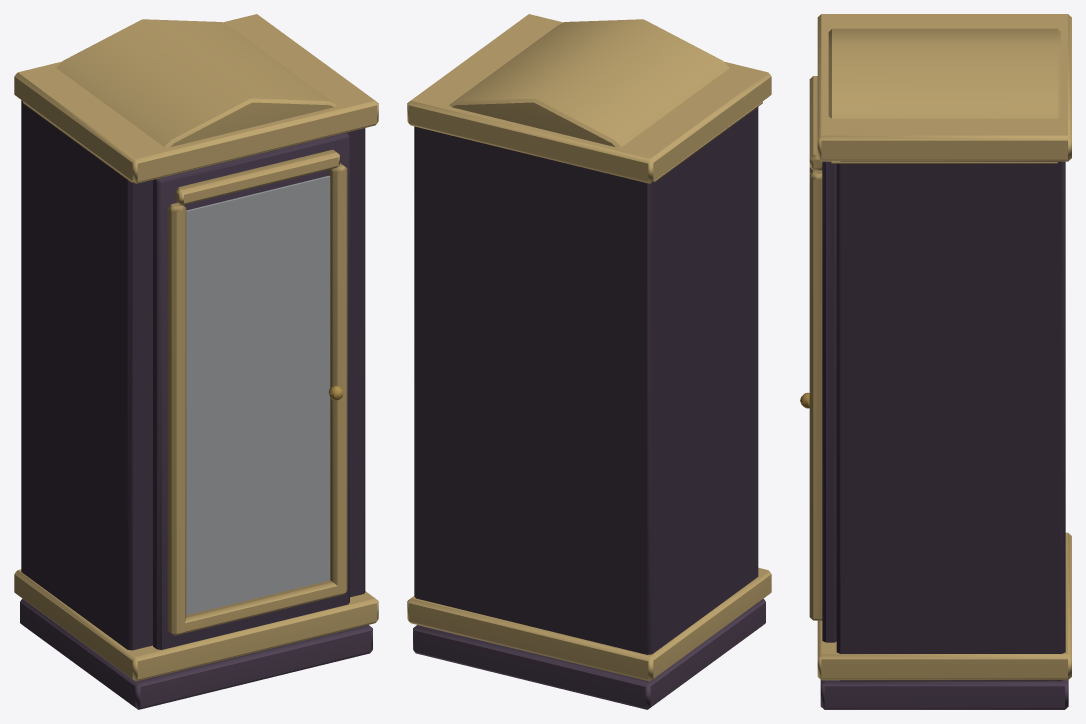
The model's file is armoire_gilded.glb.
3 views of the same model, side by side, from view 1: azimuth 30°, elevation 25°; view 2: azimuth 150°, elevation 25°; view 3: azimuth 270°, elevation 25° (orthographic). The views are drawn at different scales.
Parts seen in each view (by area): view 1: armoire_gilded, door; view 2: armoire_gilded; view 3: armoire_gilded, door.
Boxes of the visible parts, bbox=[...] form: armoire_gilded: bbox=[14, 14, 378, 709]; door: bbox=[153, 132, 349, 649]; armoire_gilded: bbox=[407, 14, 771, 709]; armoire_gilded: bbox=[817, 14, 1071, 709]; door: bbox=[800, 76, 836, 642].
Size of the model in its own units: 0.93 by 2.1 by 0.855.
